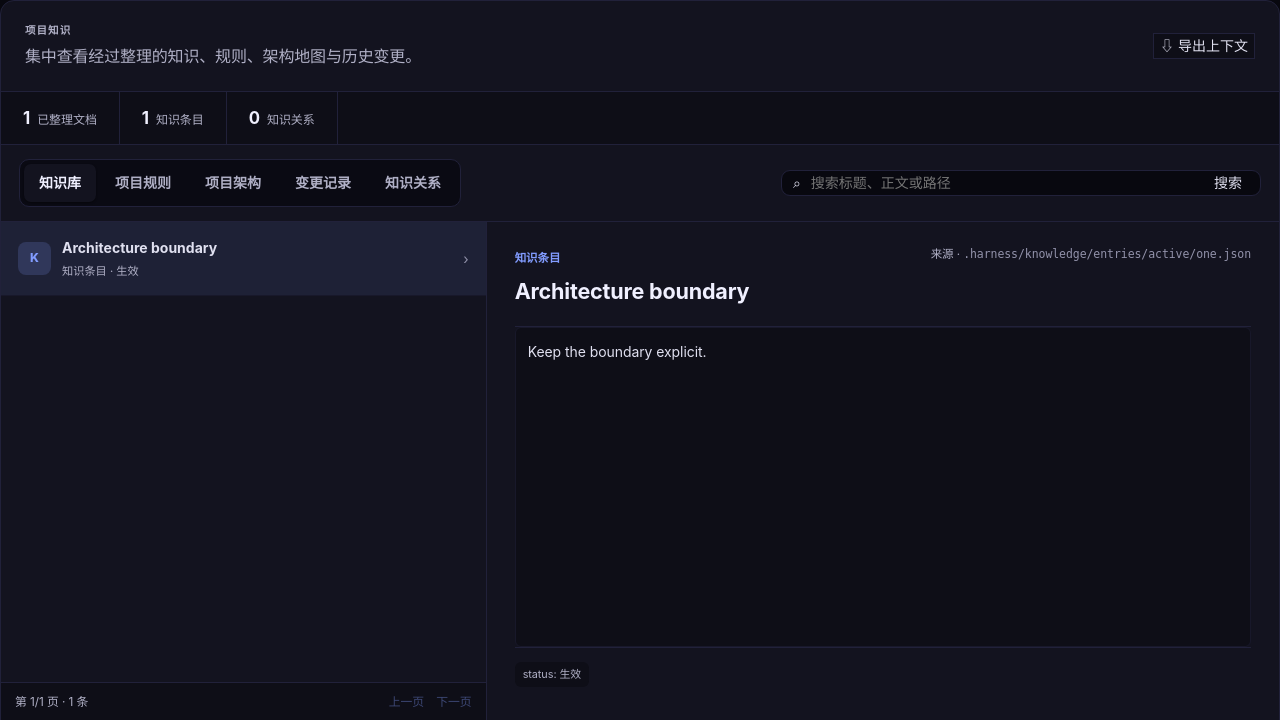
Test: ProjectSemanticPanels › opens on the searchable knowledge library and loads only a focused graph on demand
Expected: the heading "Architecture boundary" is shown, [515,275,749,308]
Click the tab "项目规则" at x=143, y=183, box [100,164,186,202]
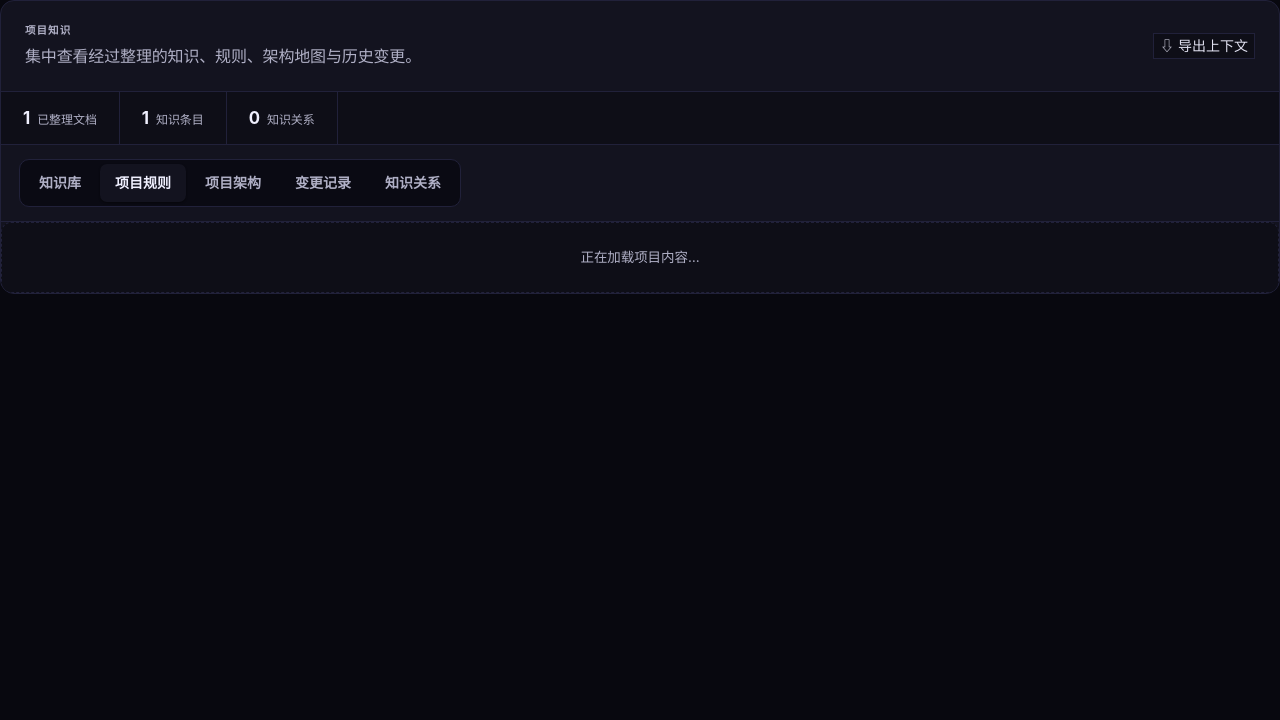
Click the tab "项目架构" at x=233, y=183, box [190,164,276,202]
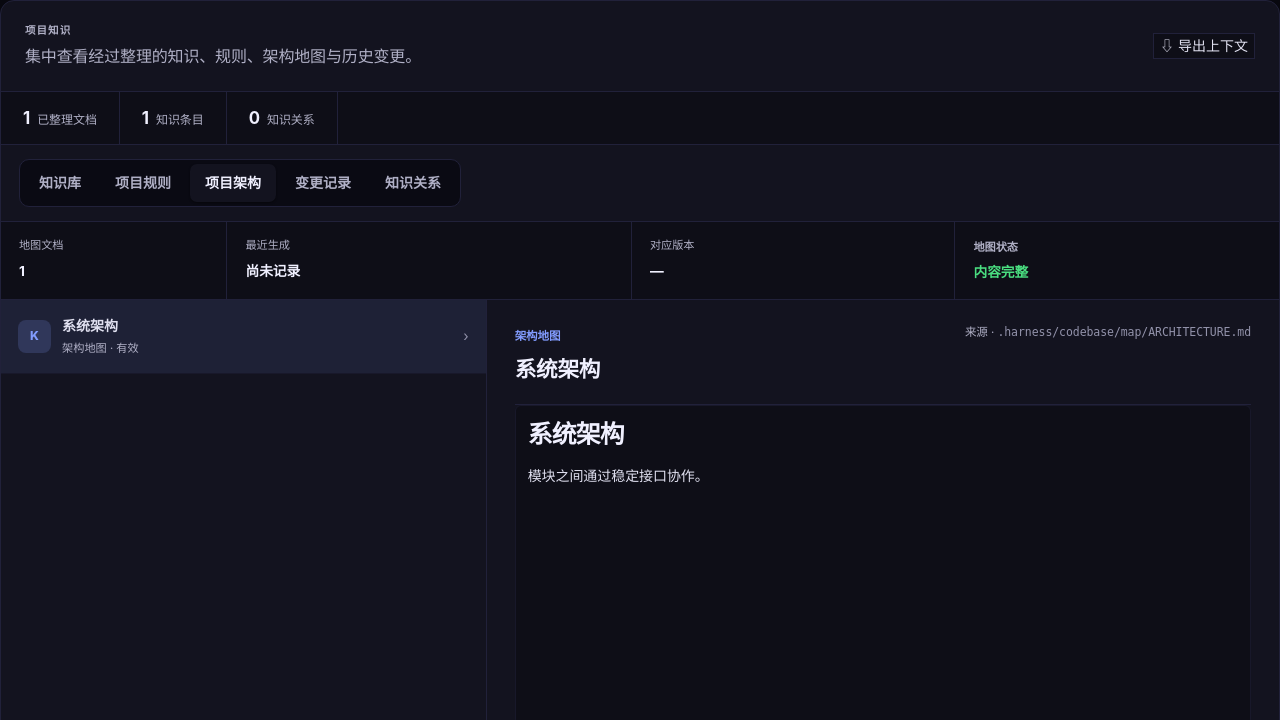
Expected: the 1st heading "系统架构" is shown, [515,353,600,386]
Click the tab "变更记录" at x=323, y=183, box [280,164,366,202]
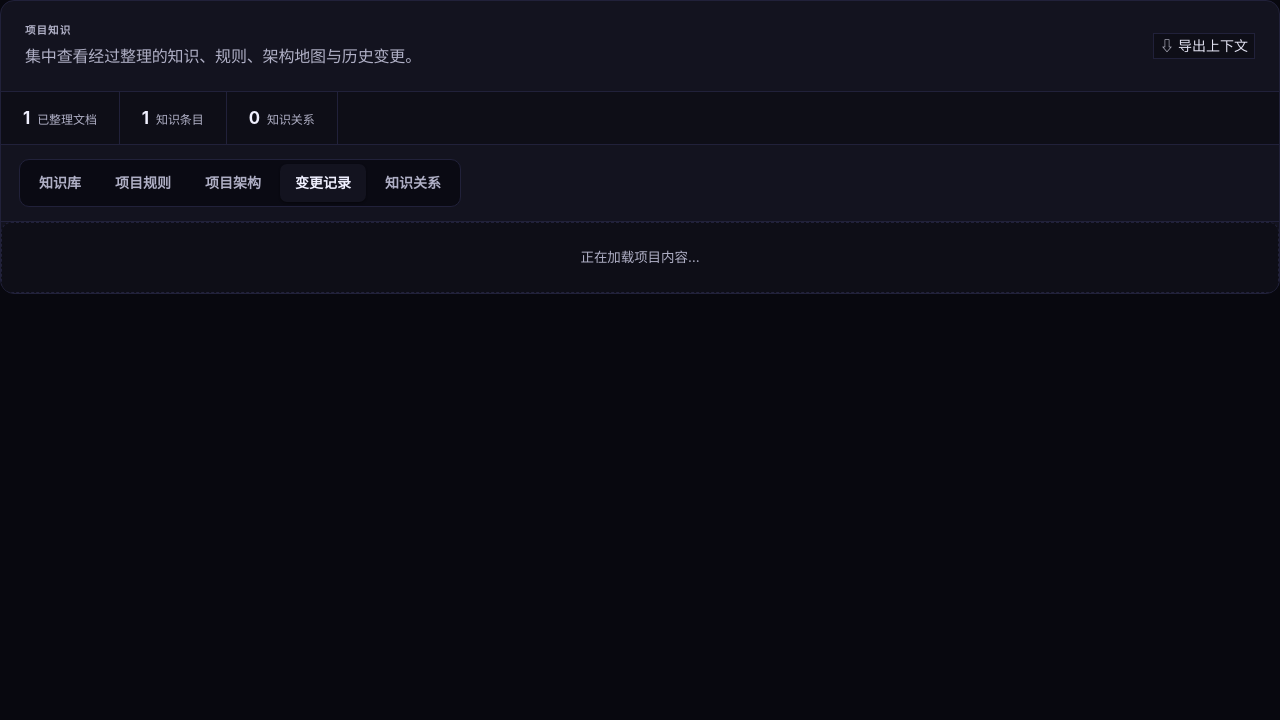
Click the tab "知识关系" at x=413, y=183, box [370,164,456,202]
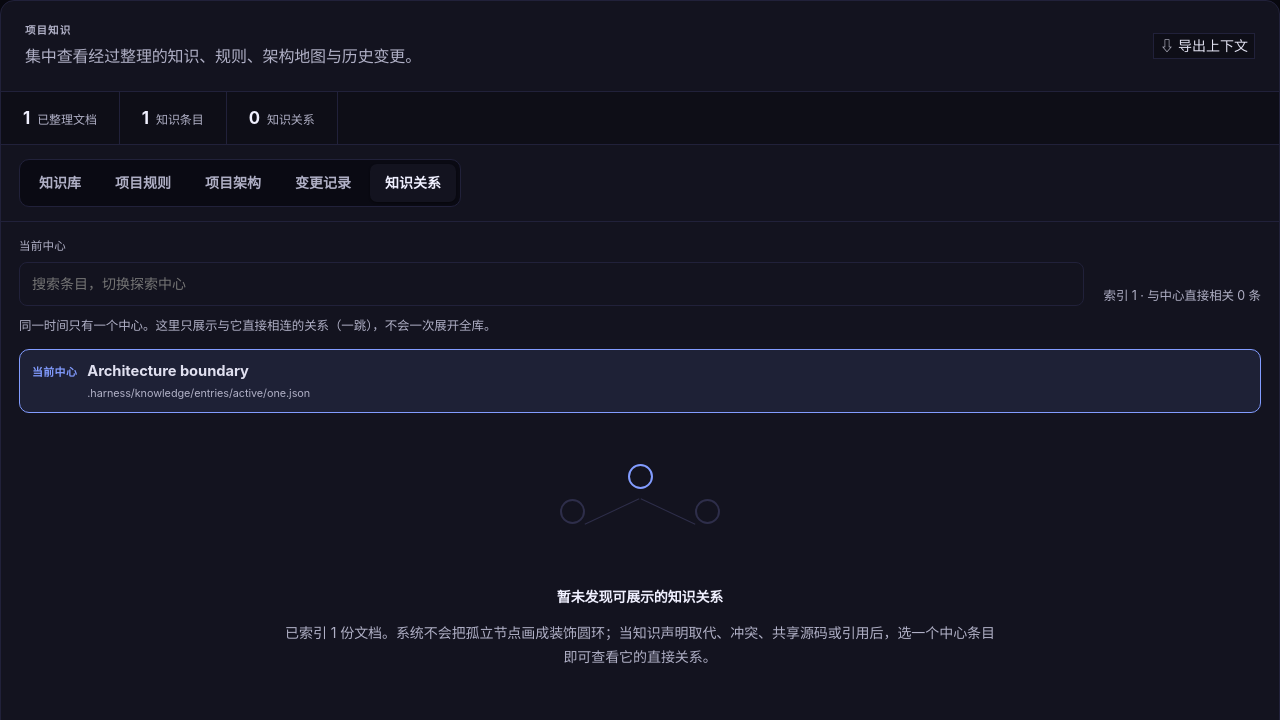
Expected: the heading "暂未发现可展示的知识关系" is shown, [557,586,723,608]
